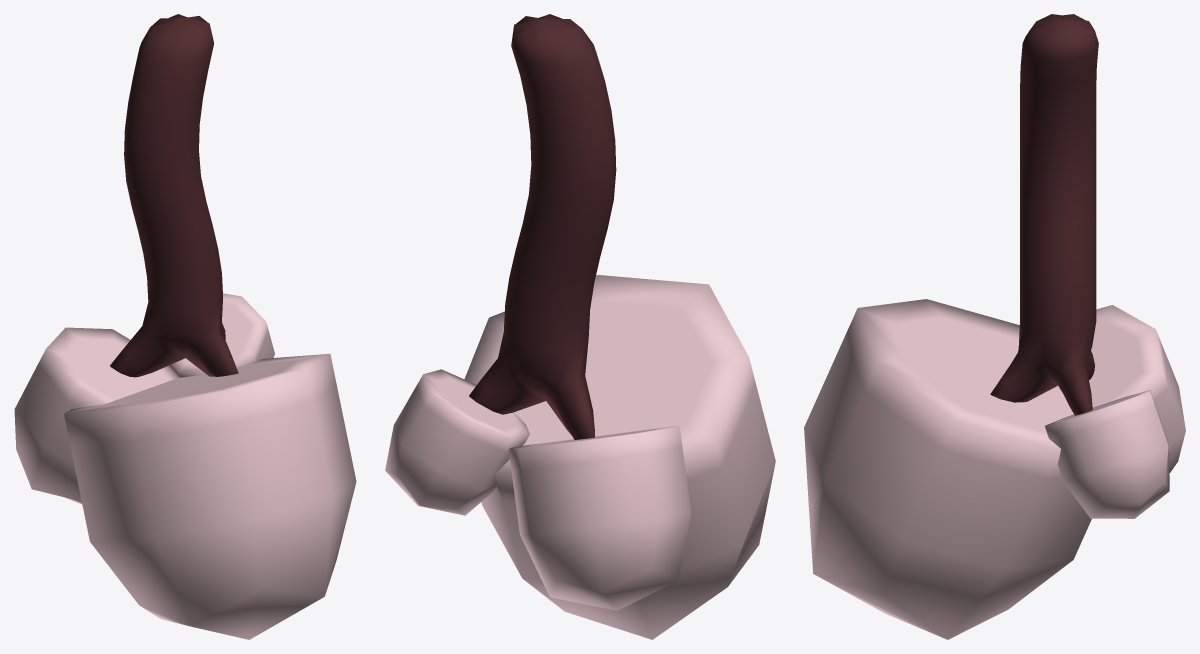
Rendered from MOD_SakuraTree.fbx.
3 views of the same model, side by side, from view 1: azimuth 30°, elevation 25°; view 2: azimuth 150°, elevation 25°; view 3: azimuth 270°, elevation 25° (orthographic). The views are drawn at different scales.
Visible parts, largest first — view 1: polySurface4; view 2: polySurface4; view 3: polySurface4.
Boxes of the visible parts, left/top/right/bottom form: polySurface4: left=14, top=14, right=356, bottom=639; polySurface4: left=385, top=14, right=775, bottom=639; polySurface4: left=804, top=14, right=1185, bottom=639.
Bounding box in the file's own units: 503 × 1124 × 644.
